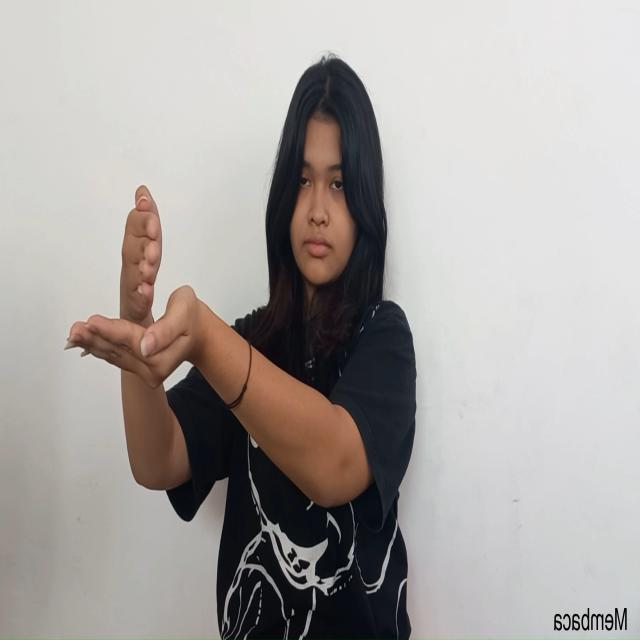Membaca -BISINDO-: (64, 184, 199, 389)
